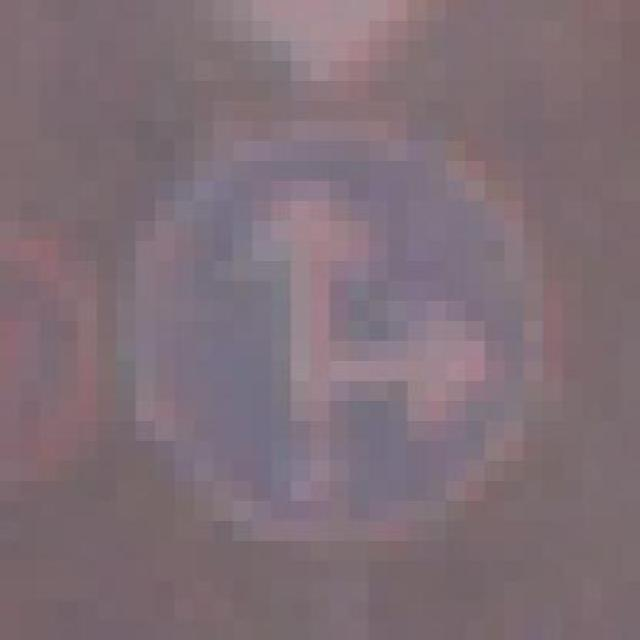Go Straight or Turn Right: (97, 60, 563, 580)
